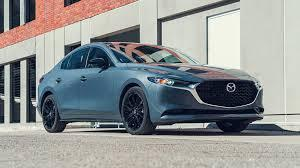mazda: (226, 79, 236, 92)
